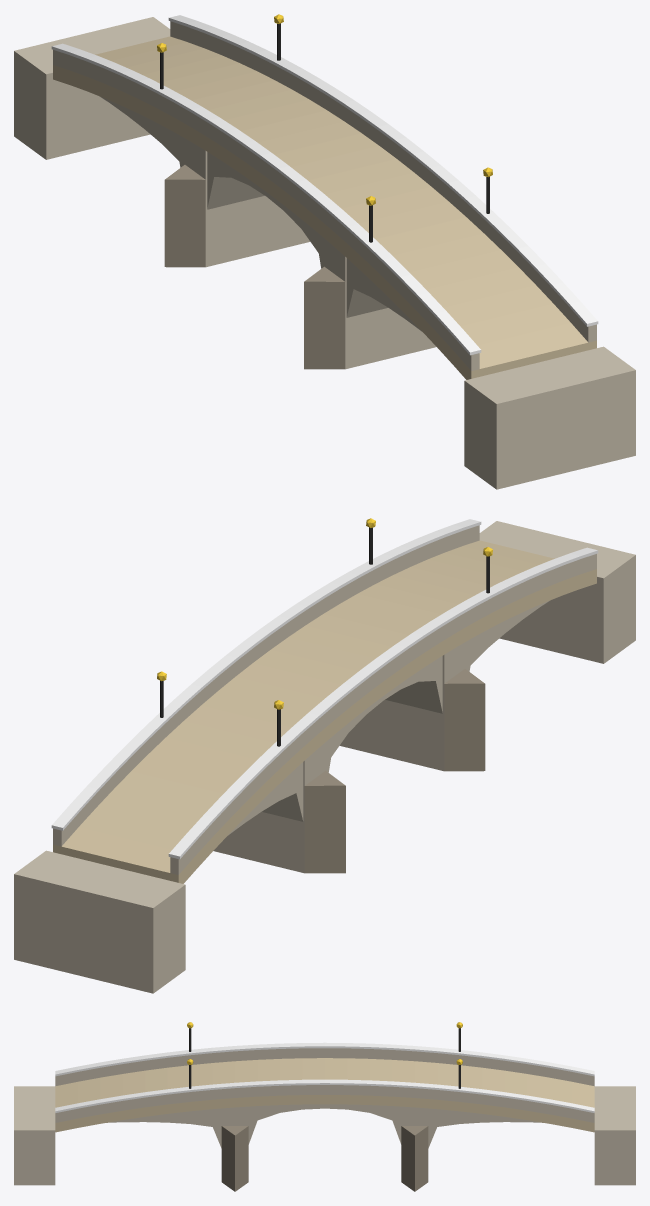
File: bridge.glb
The picture shows the model from 3 angles, top to bottom: view 1: azimuth 30°, elevation 25°; view 2: azimuth 150°, elevation 25°; view 3: azimuth 270°, elevation 25°; orthographic projection. The views are drawn at different scales.
Parts seen in each view (by area): view 1: Bridge; view 2: Bridge; view 3: Bridge.
Boxes of the visible parts, box(x1,y1,x2,y2) form: Bridge: box(14, 14, 635, 489); Bridge: box(14, 518, 635, 993); Bridge: box(14, 1022, 635, 1191).
Size of the model in its own units: 13 by 13.1 by 60.
